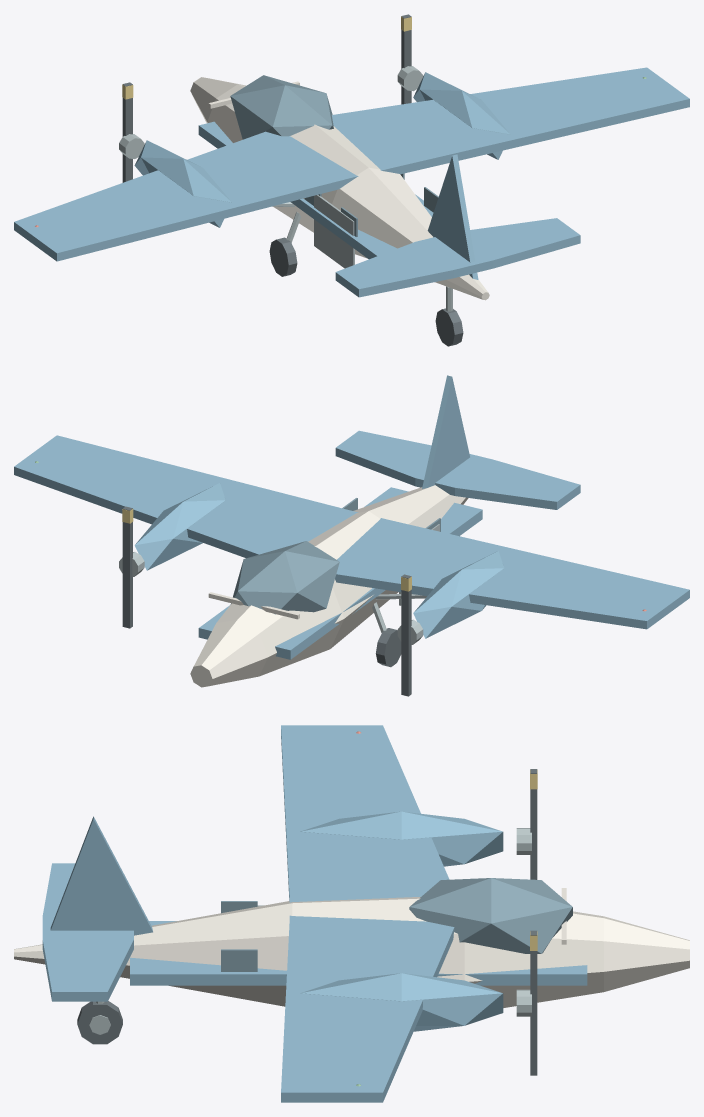
File: courier_twin.glb
The picture shows the model from 3 angles, top to bottom: view 1: azimuth 30°, elevation 25°; view 2: azimuth 150°, elevation 25°; view 3: azimuth 270°, elevation 25°; orthographic projection. The views are drawn at different scales.
Visible parts, largest first — view 1: courier_twin__main_wings, courier_twin__faceted_fuselage, courier_twin__tailplane, courier_twin__cockpit_canopy, courier_twin__vertical_tail, courier_twin__engine_nacelle, courier_twin__engine_nacelle.001, courier_twin__signature_stripe, courier_twin__cargo_door, courier_twin__wheel, courier_twin__wheel.002, courier_twin__Propeller_blades (+1 smaller); view 2: courier_twin__main_wings, courier_twin__faceted_fuselage, courier_twin__tailplane, courier_twin__cockpit_canopy, courier_twin__engine_nacelle, courier_twin__engine_nacelle.001, courier_twin__signature_stripe, courier_twin__vertical_tail, courier_twin__Propeller_blades.001, courier_twin__Propeller_blades, courier_twin__wheel; view 3: courier_twin__main_wings, courier_twin__faceted_fuselage, courier_twin__cockpit_canopy, courier_twin__tailplane, courier_twin__vertical_tail, courier_twin__engine_nacelle.001, courier_twin__engine_nacelle, courier_twin__signature_stripe, courier_twin__wheel.002, courier_twin__Propeller_blades.001, courier_twin__cabin_window.001, courier_twin__Propeller_blades.
Part boxes in pixels (left/top/right/bottom): courier_twin__main_wings: left=14, top=67, right=689, bottom=261; courier_twin__faceted_fuselage: left=190, top=77, right=489, bottom=300; courier_twin__tailplane: left=335, top=218, right=580, bottom=297; courier_twin__cockpit_canopy: left=230, top=75, right=333, bottom=139; courier_twin__vertical_tail: left=427, top=154, right=478, bottom=279; courier_twin__engine_nacelle: left=134, top=140, right=231, bottom=227; courier_twin__engine_nacelle.001: left=413, top=72, right=510, bottom=159; courier_twin__signature_stripe: left=198, top=121, right=433, bottom=259; courier_twin__cargo_door: left=314, top=195, right=354, bottom=268; courier_twin__wheel: left=269, top=237, right=297, bottom=276; courier_twin__wheel.002: left=435, top=308, right=463, bottom=346; courier_twin__Propeller_blades: left=122, top=82, right=132, bottom=182; courier_twin__main_wings: left=14, top=435, right=689, bottom=629; courier_twin__faceted_fuselage: left=190, top=485, right=468, bottom=687; courier_twin__tailplane: left=335, top=430, right=580, bottom=509; courier_twin__cockpit_canopy: left=230, top=541, right=339, bottom=614; courier_twin__engine_nacelle: left=413, top=551, right=504, bottom=638; courier_twin__engine_nacelle.001: left=134, top=483, right=225, bottom=570; courier_twin__signature_stripe: left=198, top=487, right=482, bottom=659; courier_twin__vertical_tail: left=422, top=375, right=469, bottom=488; courier_twin__Propeller_blades.001: left=122, top=506, right=132, bottom=628; courier_twin__Propeller_blades: left=401, top=574, right=411, bottom=696; courier_twin__wheel: left=375, top=628, right=401, bottom=667; courier_twin__main_wings: left=281, top=725, right=454, bottom=1102; courier_twin__faceted_fuselage: left=14, top=897, right=689, bottom=1007; courier_twin__cockpit_canopy: left=409, top=878, right=572, bottom=953; courier_twin__tailplane: left=42, top=863, right=133, bottom=1001; courier_twin__vertical_tail: left=50, top=816, right=152, bottom=935; courier_twin__engine_nacelle.001: left=300, top=973, right=503, bottom=1031; courier_twin__engine_nacelle: left=300, top=811, right=503, bottom=866; courier_twin__signature_stripe: left=130, top=921, right=587, bottom=985; courier_twin__wheel.002: left=77, top=1001, right=122, bottom=1044; courier_twin__Propeller_blades.001: left=530, top=930, right=537, bottom=1075; courier_twin__cabin_window.001: left=221, top=949, right=257, bottom=971; courier_twin__Propeller_blades: left=530, top=769, right=537, bottom=879.
Size of the model in its own units: 16 by 4.59 by 12.44.
